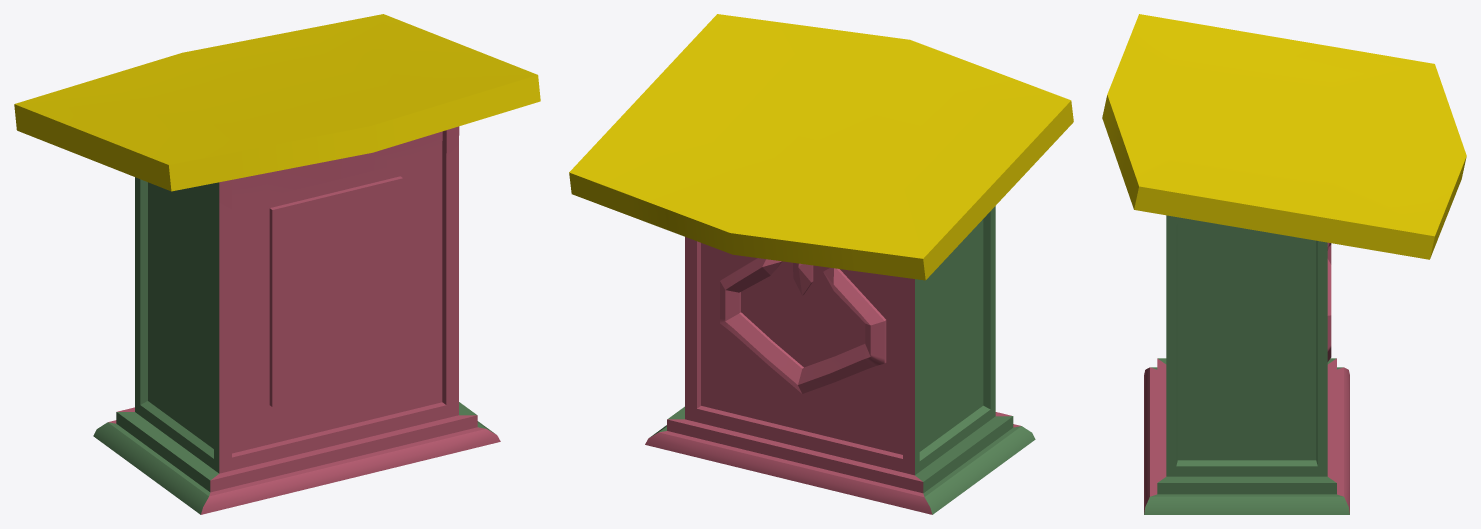
Rendered from Crafting Table Model.fbx.
3 renders of one model, left to right at view 1: azimuth 30°, elevation 25°; view 2: azimuth 150°, elevation 25°; view 3: azimuth 270°, elevation 25°, orthographic. The views are drawn at different scales.
Parts seen in each view (by area): view 1: pCube1; view 2: pCube1; view 3: pCube1.
Boxes of the visible parts, left/top/right/bottom form: pCube1: left=14, top=14, right=540, bottom=514; pCube1: left=569, top=14, right=1073, bottom=514; pCube1: left=1102, top=14, right=1466, bottom=514.
Bounding box in the file's own units: 127 × 120 × 113.
